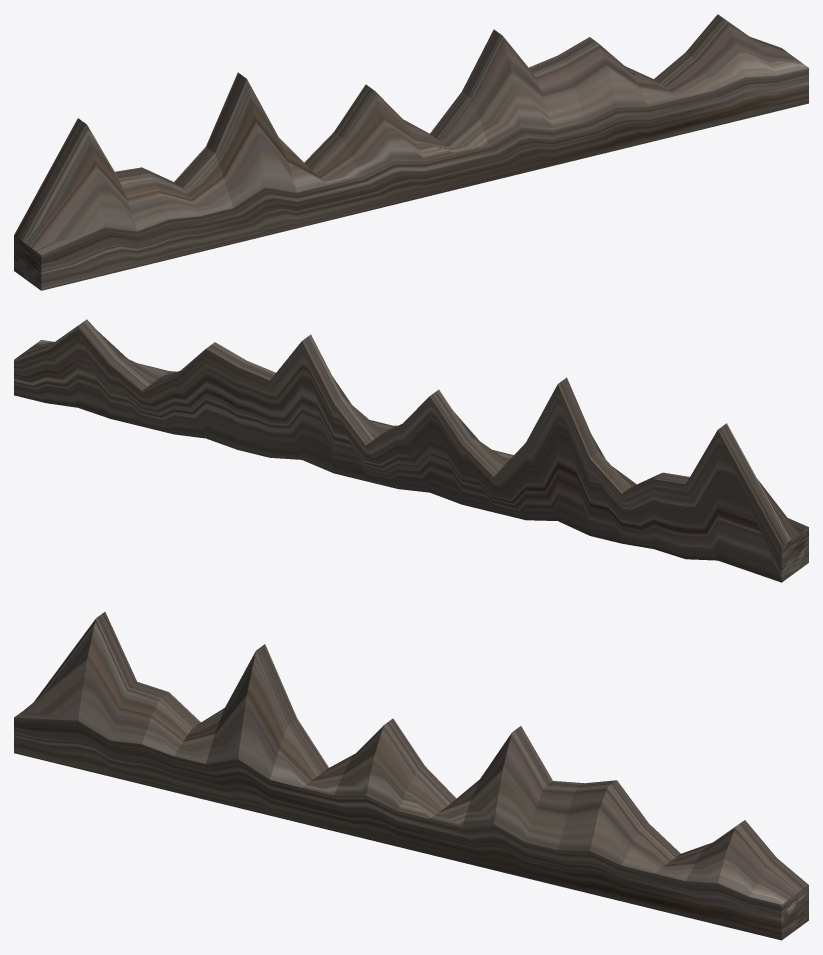
File: DistantMountains2.fbx
The picture shows the model from 3 angles, top to bottom: view 1: azimuth 30°, elevation 25°; view 2: azimuth 150°, elevation 25°; view 3: azimuth 330°, elevation 25°; orthographic projection.
Visible parts, largest first — view 1: Cube.010; view 2: Cube.010; view 3: Cube.010.
Part boxes in pixels (<box>): Cube.010: <box>14,14,808,290</box>; Cube.010: <box>14,319,808,582</box>; Cube.010: <box>14,612,808,940</box>.
Bounding box in the file's own units: 11667 × 2091 × 717.
Materials: 1 (1 with a texture image).
